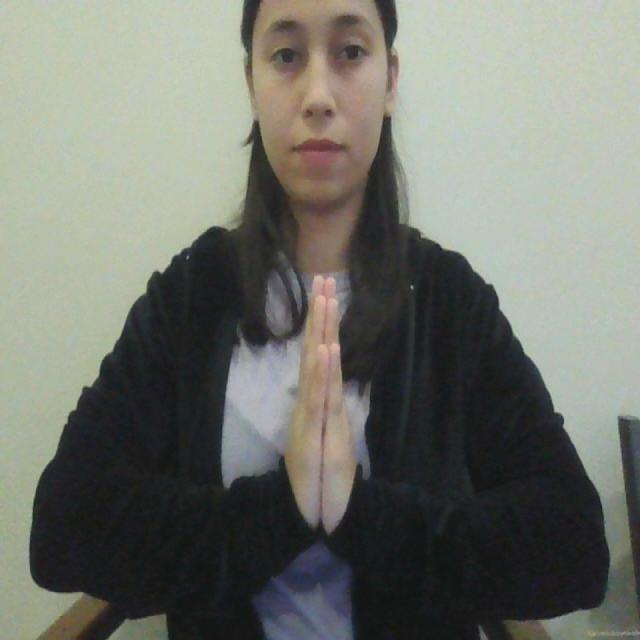Ozur-Dilemek: (282, 266, 361, 534)
